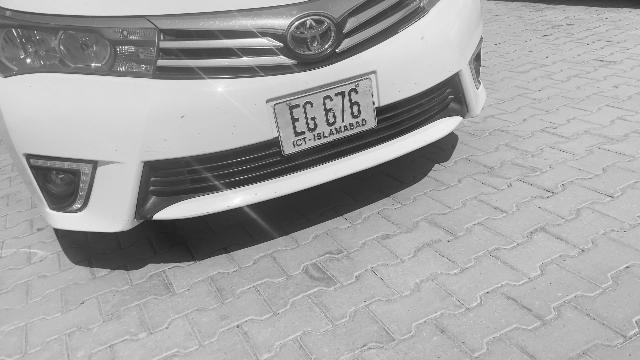Number: (285, 83, 366, 140)
